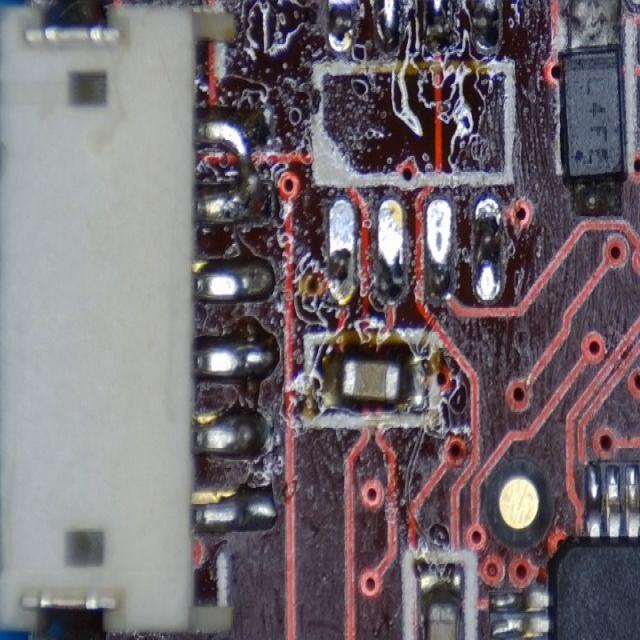Short_circuit: (194, 106, 272, 223)
